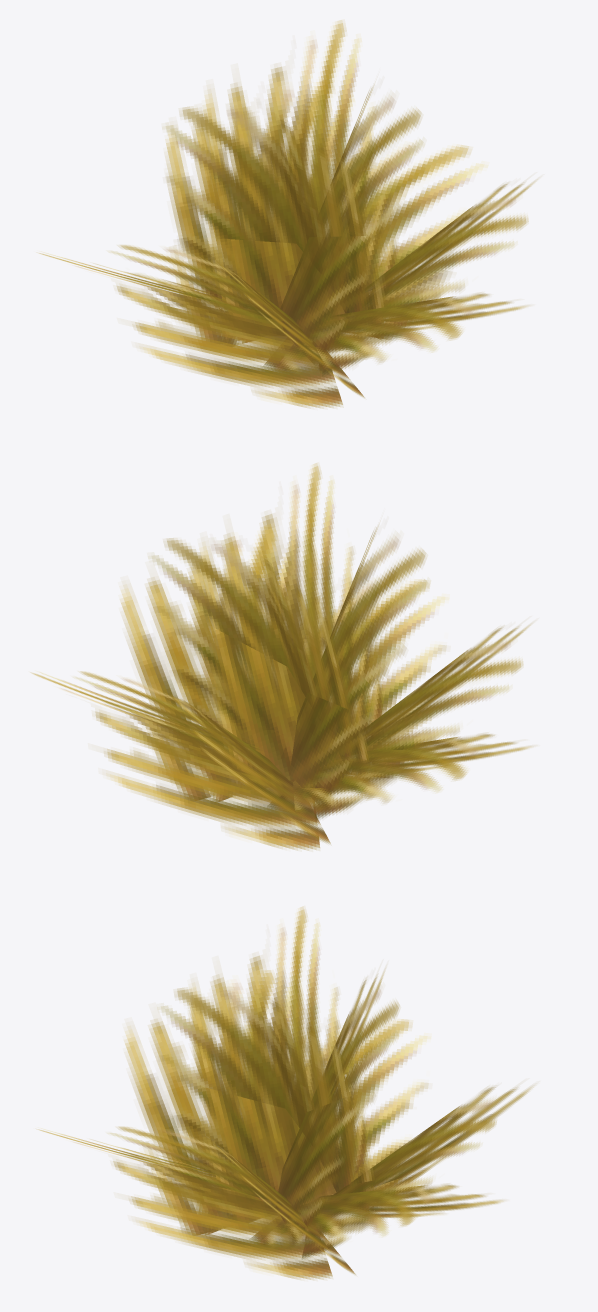
3 views of the same model, one above another, from view 1: azimuth 30°, elevation 25°; view 2: azimuth 150°, elevation 25°; view 3: azimuth 270°, elevation 25° (orthographic). The views are drawn at different scales.
Parts seen in each view (by area): view 1: grass; view 2: grass; view 3: grass.
Boxes of the visible parts, x1=… form: grass: x1=39, y1=20, x2=537, y2=408; grass: x1=32, y1=463, x2=531, y2=850; grass: x1=38, y1=907, x2=533, y2=1279.
Size of the model in its own units: 129 by 79.15 by 135.
Materials: 1 (1 with a texture image).
